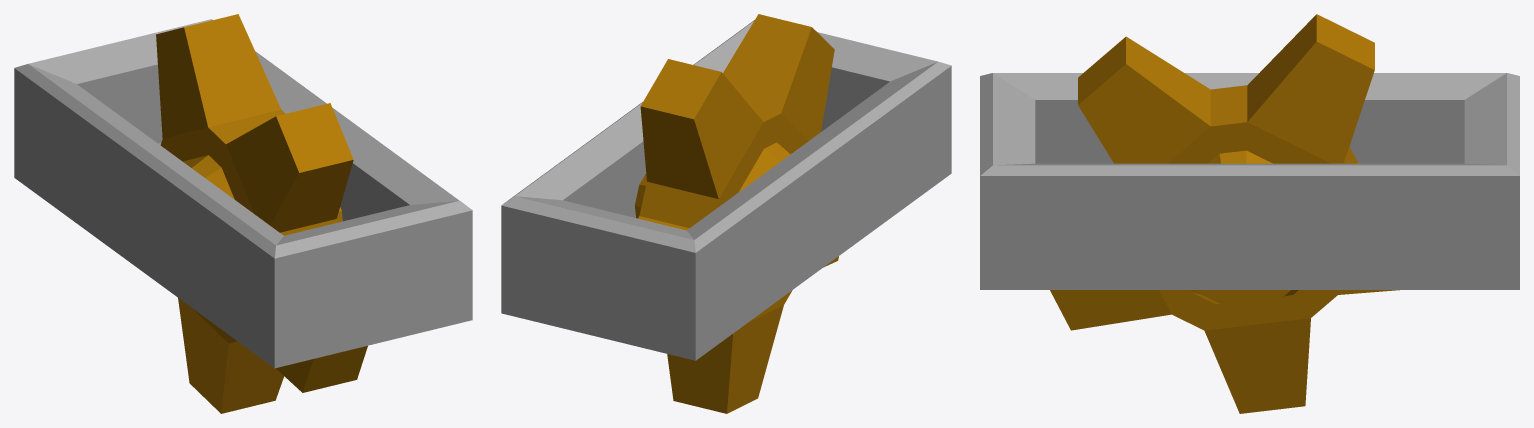
File: geo_propcog_base.fbx
3 renders of one model, left to right at view 1: azimuth 30°, elevation 25°; view 2: azimuth 150°, elevation 25°; view 3: azimuth 270°, elevation 25°, orthographic. The views are drawn at different scales.
Visible parts, largest first — view 1: geo_propcog_base, geo_cog_small; view 2: geo_propcog_base, geo_cog_small; view 3: geo_propcog_base, geo_cog_small.
Part boxes in pixels (x1,y1,x2,y2): geo_propcog_base: [14, 19, 472, 368]; geo_cog_small: [156, 14, 367, 413]; geo_propcog_base: [501, 20, 951, 360]; geo_cog_small: [634, 14, 838, 413]; geo_propcog_base: [980, 73, 1519, 289]; geo_cog_small: [1050, 14, 1399, 413].
Bounding box in the file's own units: 1.16 × 2.02 × 2.65.
